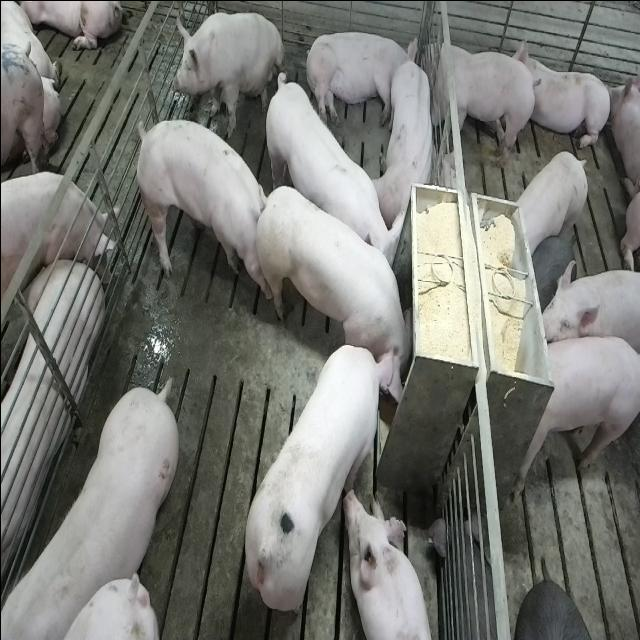Feeding: (242, 338, 402, 616), (250, 176, 412, 382)
Lateral_lying: (0, 254, 101, 598), (302, 24, 418, 126)
Sitting: (170, 8, 284, 134)
Standing: (5, 373, 183, 635), (260, 68, 400, 285), (130, 112, 263, 302), (508, 336, 638, 507), (420, 33, 538, 173), (0, 167, 115, 300), (537, 256, 640, 369), (514, 150, 588, 258)
Sternal_lying: (344, 490, 434, 640), (517, 34, 612, 154), (374, 55, 437, 229)
